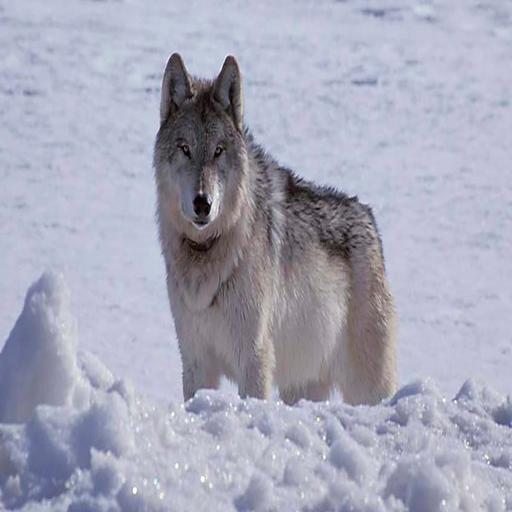Wolf: (150, 49, 401, 463)
